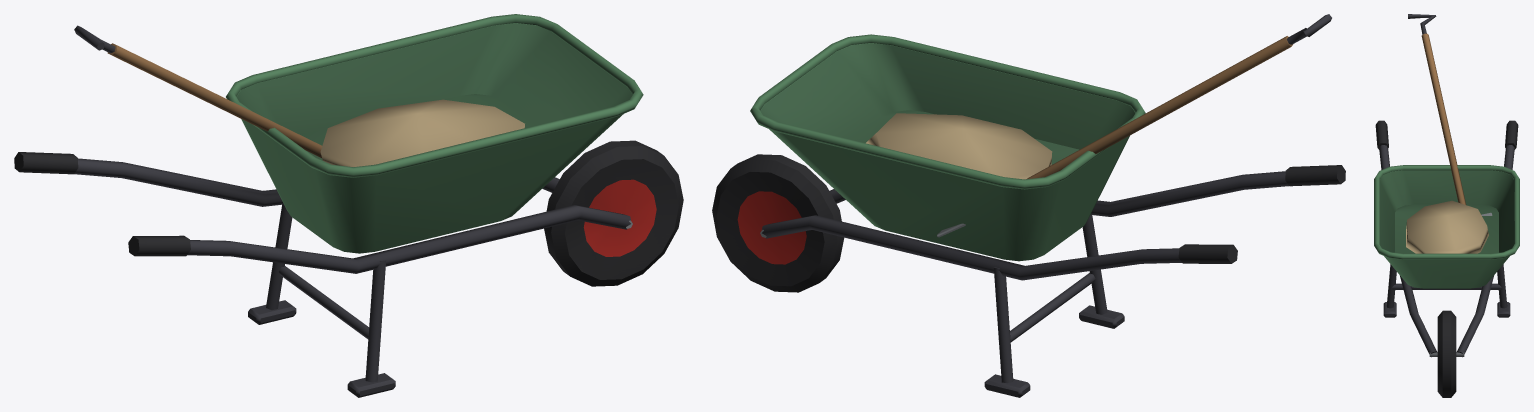
File: Wheelbarrow.fbx
3 renders of one model, left to right at view 1: azimuth 30°, elevation 25°; view 2: azimuth 150°, elevation 25°; view 3: azimuth 270°, elevation 25°, orthographic. The views are drawn at different scales.
Visible parts, largest first — view 1: Wheelbarrow; view 2: Wheelbarrow; view 3: Wheelbarrow.
Part boxes in pixels (x1,y1,x2,y2): Wheelbarrow: (14, 14, 683, 397); Wheelbarrow: (712, 14, 1345, 397); Wheelbarrow: (1374, 14, 1519, 397).
Bounding box in the file's own units: 1.86 × 1.15 × 0.6678.
